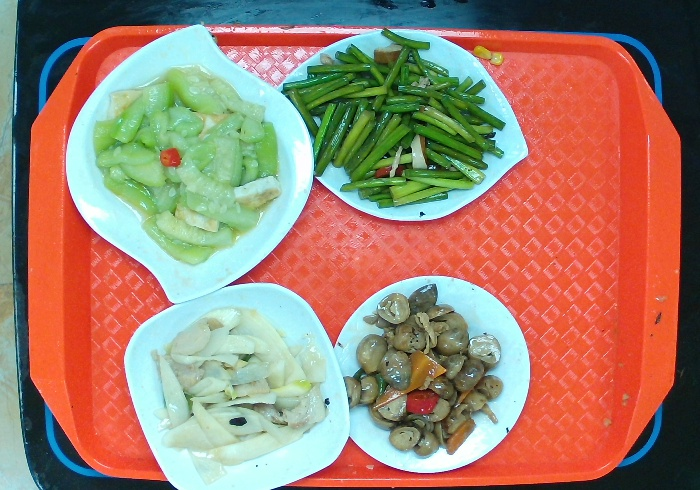RJxy-Da_Du_Pan: (271, 25, 532, 225)
RJxy-Shuang_Jiao_Pan: (60, 21, 317, 310)
RJxy-Si_Fang_Wan: (120, 276, 354, 490)
RJxy-Xiao_Yuan_Die: (324, 268, 535, 481)
